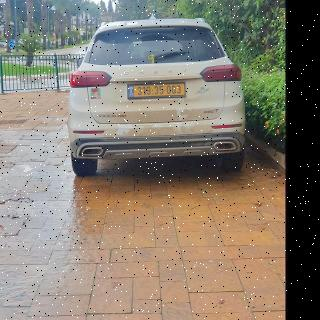LicensePlate: (134, 84, 185, 96)
